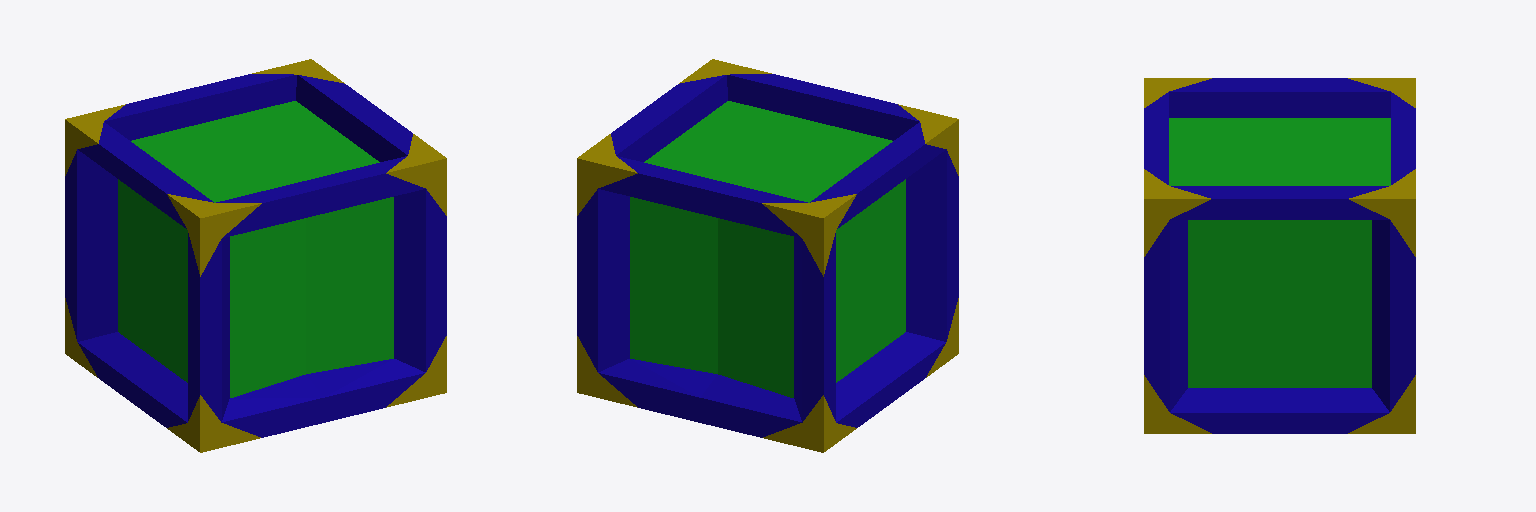
File: dice.obj
The picture shows the model from 3 angles: view 1: azimuth 30°, elevation 25°; view 2: azimuth 150°, elevation 25°; view 3: azimuth 270°, elevation 25°; orthographic projection.
Visible parts, largest first — view 1: Cube.002, Cube.003, Cube.001; view 2: Cube.002, Cube.003, Cube.001; view 3: Cube.003, Cube.002, Cube.001.
Part boxes in pixels (x1,y1,x2,y2): Cube.002: (65, 74, 446, 437); Cube.003: (118, 101, 393, 397); Cube.001: (65, 59, 446, 452); Cube.002: (577, 74, 958, 437); Cube.003: (630, 101, 905, 397); Cube.001: (577, 59, 958, 452); Cube.003: (1169, 118, 1390, 387); Cube.002: (1144, 78, 1415, 433); Cube.001: (1144, 78, 1415, 433).
Size of the model in its own units: 6.29 by 5.72 by 5.99.